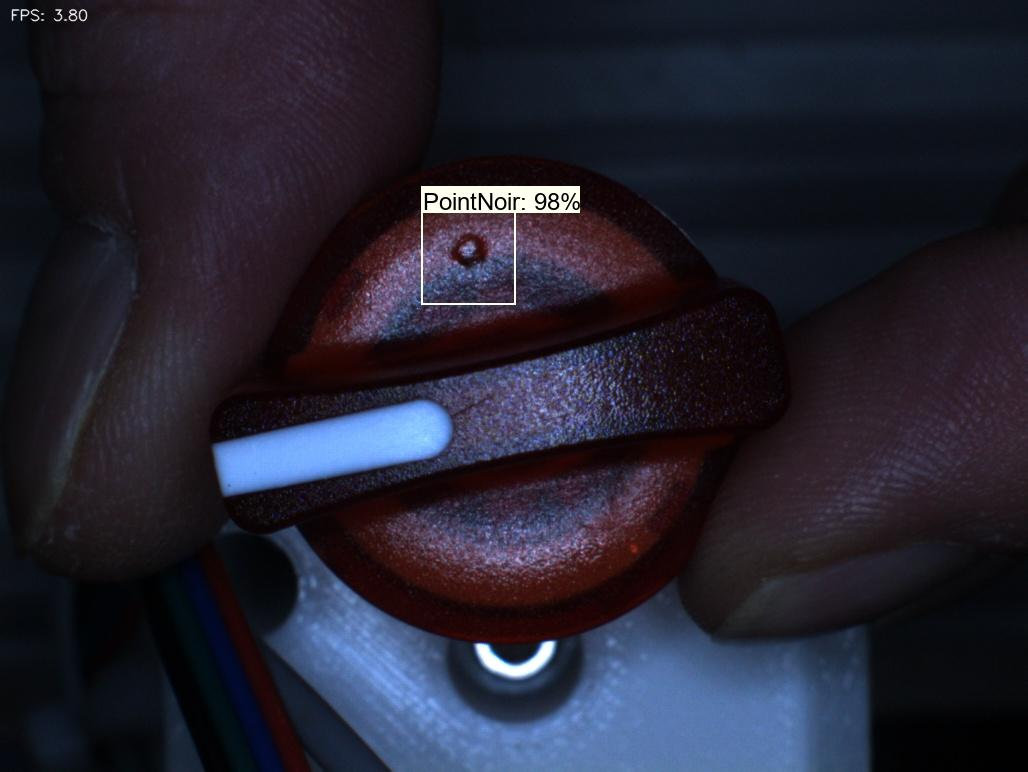Choc: (428, 216, 516, 297)
